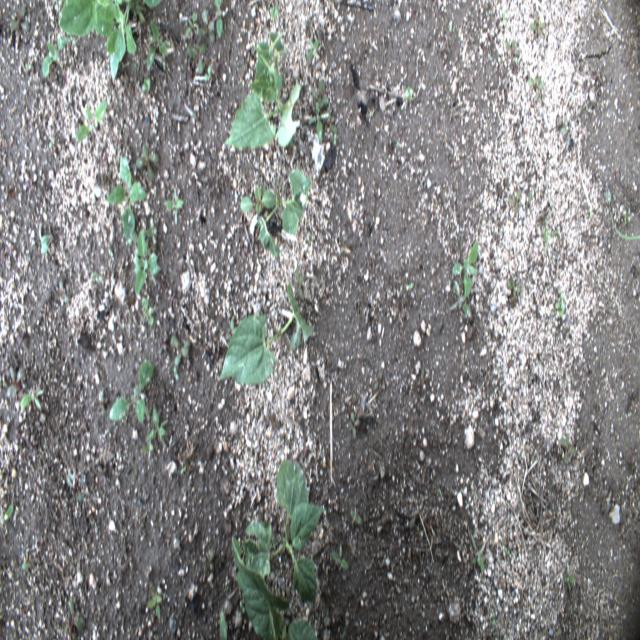crop: (215, 266, 312, 386), (246, 456, 324, 604), (232, 530, 316, 638), (57, 0, 162, 86), (226, 32, 302, 148), (104, 152, 150, 243), (280, 162, 311, 237), (134, 227, 161, 296), (76, 99, 108, 140), (146, 17, 168, 68)
weed: (240, 183, 280, 263), (106, 361, 154, 425), (452, 236, 480, 296), (141, 406, 168, 453), (449, 277, 473, 322), (137, 143, 160, 182), (43, 39, 66, 77), (202, 1, 224, 40), (308, 99, 326, 143), (163, 187, 184, 224), (170, 331, 188, 374), (186, 40, 209, 73), (9, 4, 34, 34), (184, 9, 205, 41), (310, 78, 331, 110), (470, 530, 486, 571), (146, 586, 163, 622), (201, 546, 216, 582), (560, 434, 576, 466), (542, 225, 560, 252), (20, 391, 44, 411), (332, 542, 349, 570), (527, 73, 544, 101), (529, 12, 546, 38), (40, 232, 56, 259), (327, 107, 338, 145), (562, 565, 576, 594), (605, 182, 614, 226), (348, 408, 361, 438), (560, 110, 570, 148), (305, 38, 321, 61), (614, 228, 640, 242), (553, 290, 565, 320), (506, 278, 522, 300), (142, 298, 153, 328), (0, 502, 15, 522), (514, 186, 522, 216), (220, 613, 228, 639), (350, 510, 363, 526), (269, 3, 279, 22), (405, 83, 413, 104), (143, 75, 151, 94), (490, 608, 497, 629), (504, 40, 516, 52), (588, 208, 594, 220), (502, 10, 506, 23)
